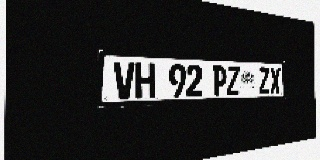2: (186, 64, 202, 97)
9: (169, 64, 186, 97)
H: (135, 62, 155, 99)
P: (212, 65, 226, 96)
V: (114, 62, 135, 100)
X: (270, 67, 280, 94)
Z: (227, 66, 240, 95), (259, 67, 270, 94)
